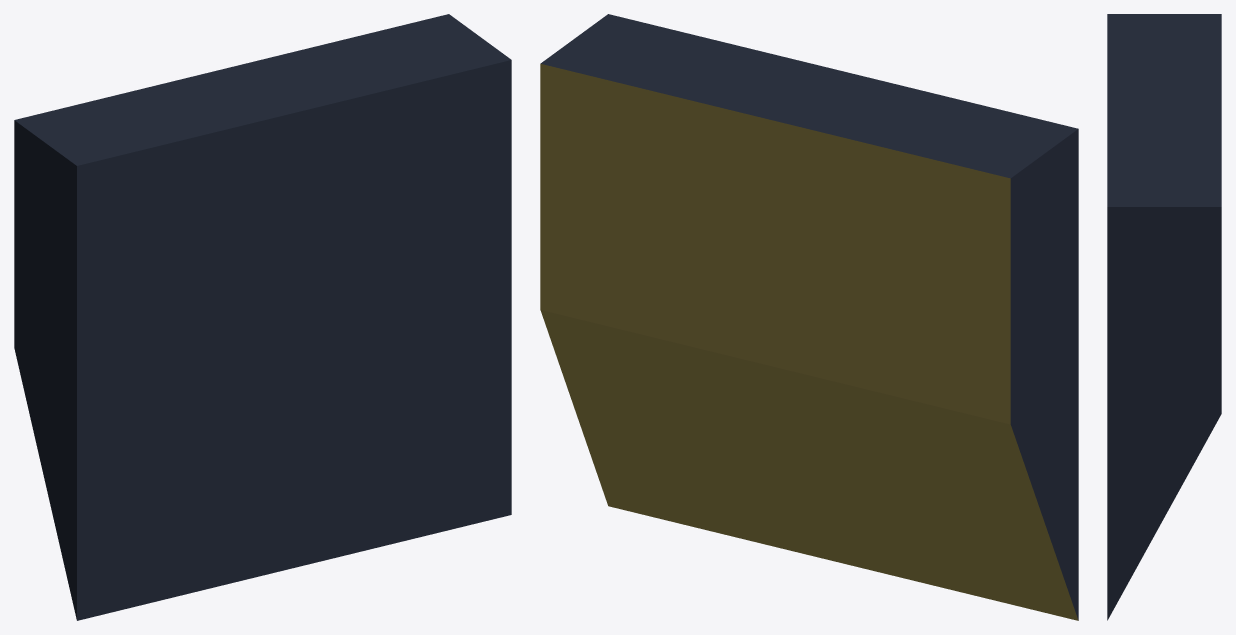
The model's file is Box (Half).fbx.
The picture shows the model from 3 angles, left to right: view 1: azimuth 30°, elevation 25°; view 2: azimuth 150°, elevation 25°; view 3: azimuth 270°, elevation 25°; orthographic projection. The views are drawn at different scales.
Parts seen in each view (by area): view 1: Box (Half); view 2: Box (Half); view 3: Box (Half).
Boxes of the visible parts, x1=… form: Box (Half): x1=14, y1=14, x2=511, y2=620; Box (Half): x1=540, y1=14, x2=1078, y2=620; Box (Half): x1=1107, y1=14, x2=1221, y2=620.
Bounding box in the file's own units: 800 × 800 × 200.
